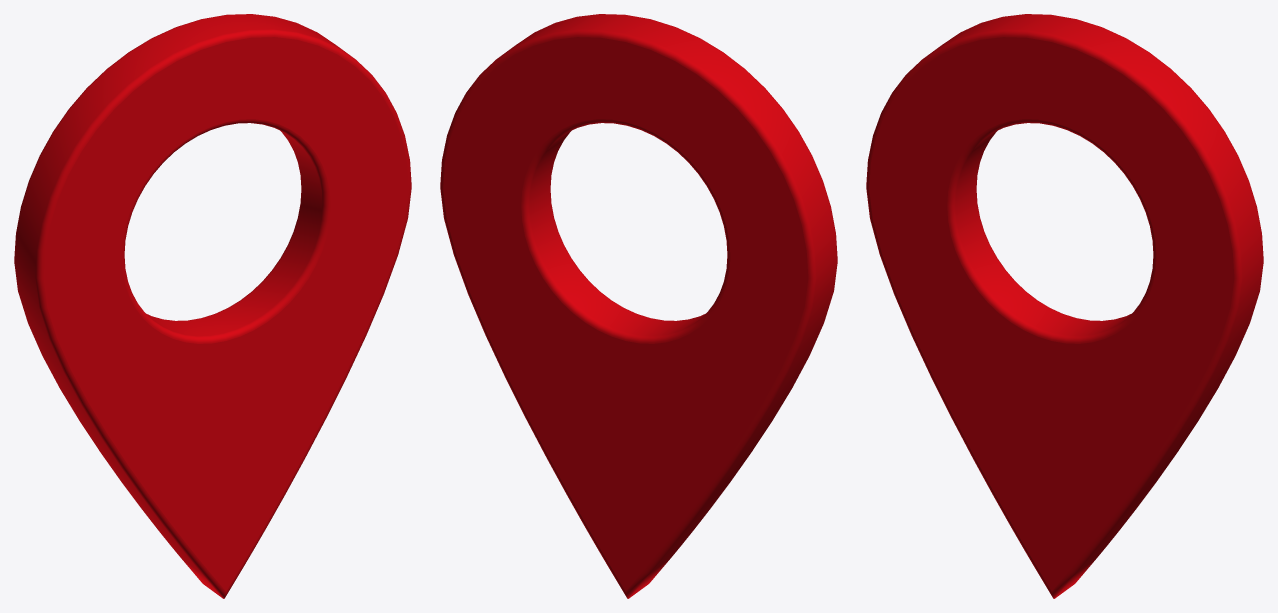
Rendered from marker.glb.
3 views of the same model, side by side, from view 1: azimuth 30°, elevation 25°; view 2: azimuth 150°, elevation 25°; view 3: azimuth 330°, elevation 25° (orthographic).
Visible parts, largest first — view 1: Object_2; view 2: Object_2; view 3: Object_2.
Boxes of the visible parts, x1,y1,x2,y2 form: Object_2: [14, 14, 411, 598]; Object_2: [440, 14, 837, 598]; Object_2: [866, 14, 1263, 598].
Bounding box in the file's own units: 3.56 × 5.11 × 0.4325.
